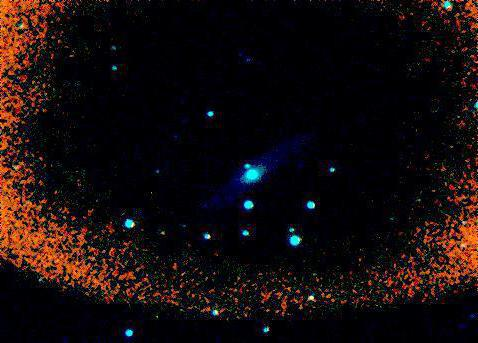star: (232, 165, 262, 195)
